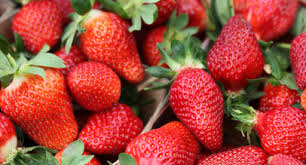ripe: (2, 59, 80, 152), (167, 65, 225, 152), (204, 12, 266, 89), (76, 13, 144, 82), (246, 97, 305, 161), (119, 120, 197, 164), (78, 104, 143, 156), (69, 59, 123, 113), (146, 22, 202, 74), (230, 7, 300, 47), (9, 8, 65, 55), (260, 78, 299, 117), (201, 142, 266, 163), (155, 7, 210, 29), (288, 29, 304, 89), (53, 148, 104, 164), (2, 113, 17, 163)
